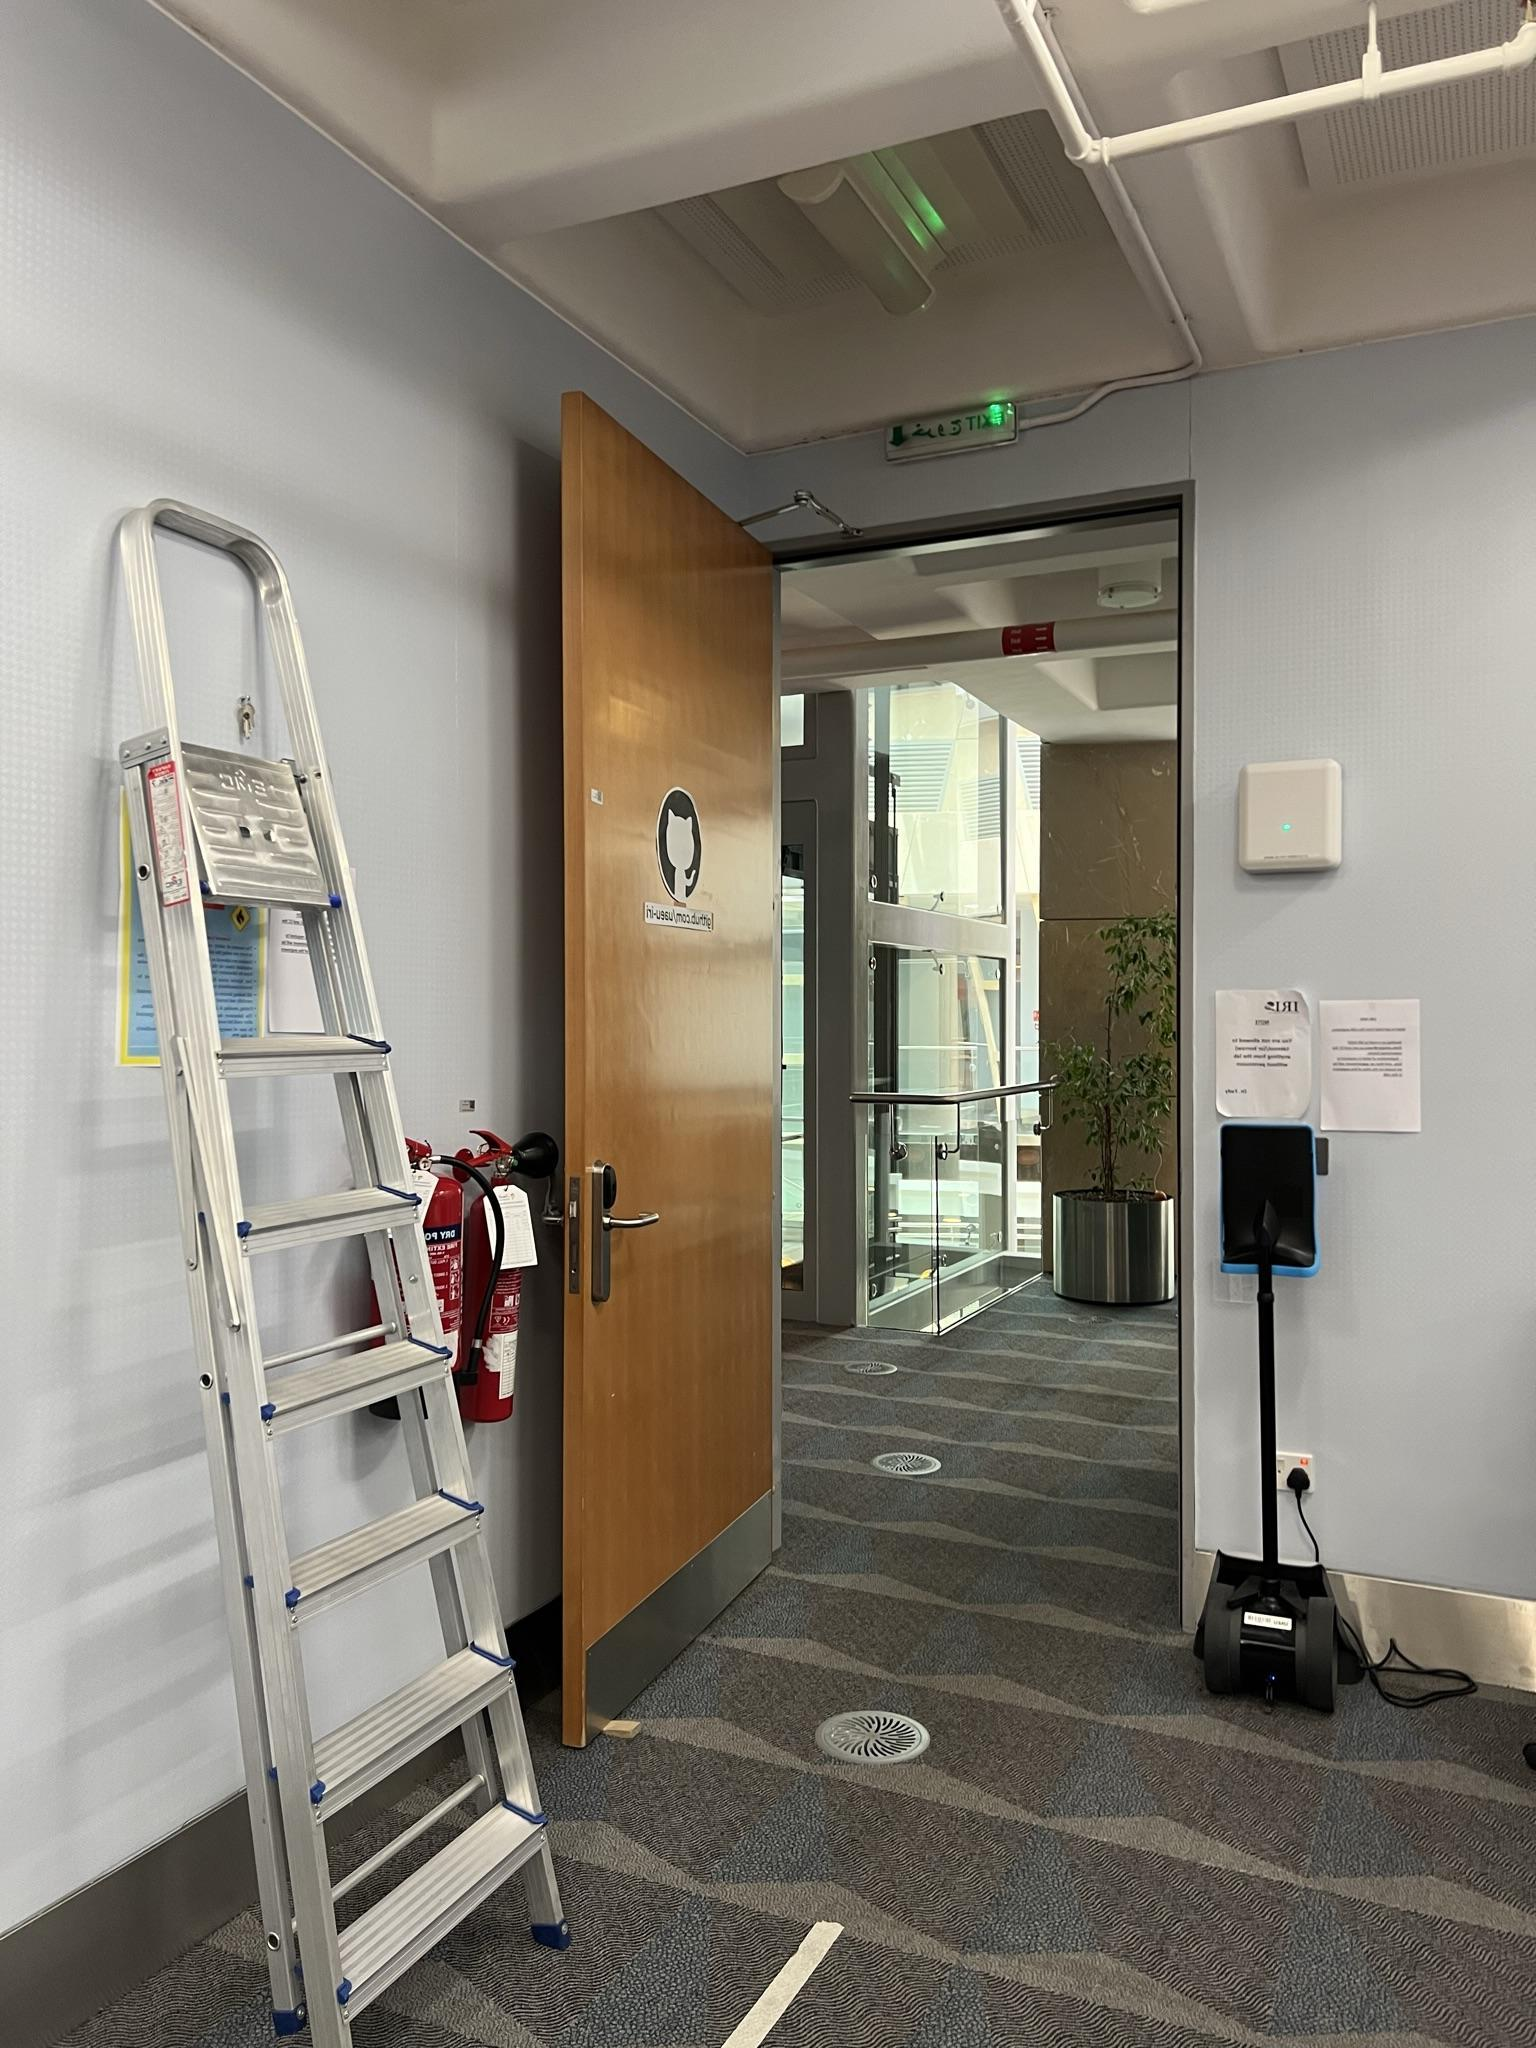door: (539, 490, 770, 1725)
handle: (563, 1151, 670, 1330)
